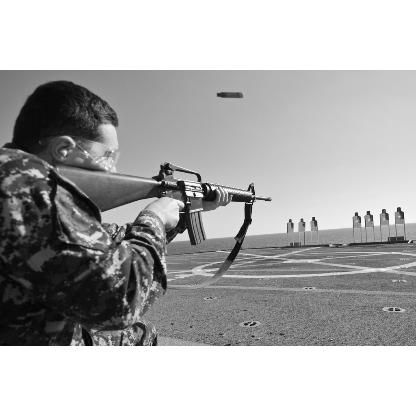gun: (50, 162, 270, 242)
